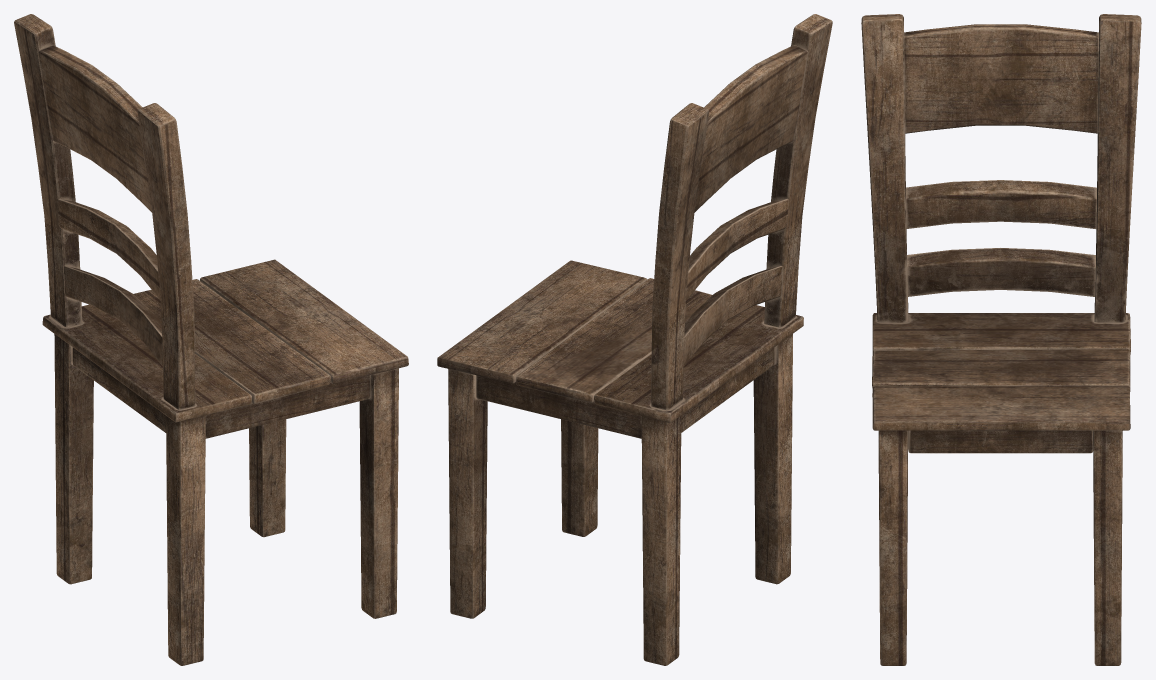
3 renders of one model, left to right at view 1: azimuth 30°, elevation 25°; view 2: azimuth 150°, elevation 25°; view 3: azimuth 270°, elevation 25°, orthographic. The views are drawn at different scales.
Visible parts, largest first — view 1: Cube.005; view 2: Cube.005; view 3: Cube.005.
Boxes of the visible parts, x1,y1,x2,y2 form: Cube.005: [14, 14, 408, 665]; Cube.005: [437, 14, 832, 665]; Cube.005: [861, 14, 1141, 665].
Bounding box in the file's own units: 56.37 × 117 × 55.25.
1 material, 1 textured.
